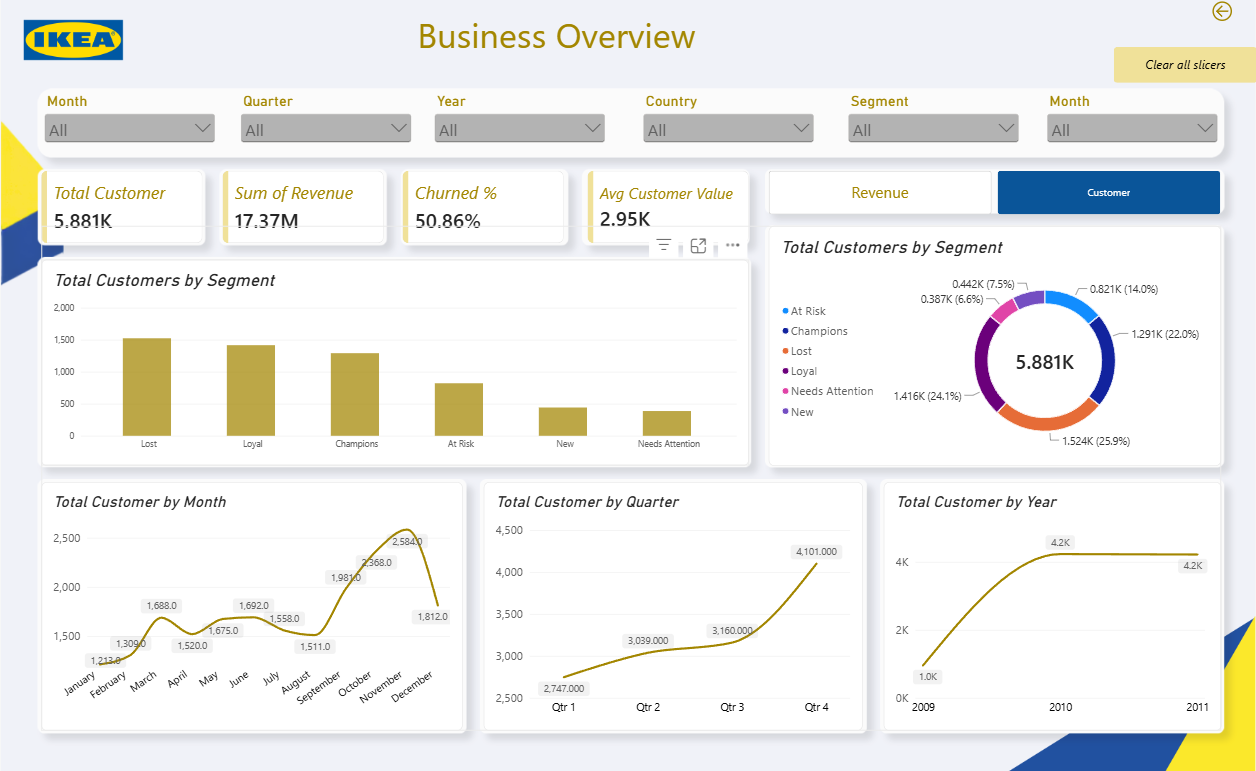

The dashboard page shown, as its layout file describes it:
{"tool":"powerbi","page":{"name":"Overview","canvas":[1920,1080],"ordinal":1},"visuals":[{"type":"slicer","fields":{"Values":["Sheet1.InvoiceDate.Variation.Date Hierarchy.Month"]},"box":[141.3,132.6,247.7,87.2],"z":0},{"type":"areaChart","fields":{"Category":["Sheet1.InvoiceDate.Variation.Date Hierarchy.Month"],"Y":["Sheet1.Total Revenue"]},"box":[141.3,676.8,587.8,347.1],"z":0,"group":"g1"},{"type":"cardVisual","fields":{"Data":["Sheet1.Total Customer"]},"box":[141.7,241.7,225,101.2],"z":1000},{"type":"areaChart","fields":{"Category":["Sheet1.InvoiceDate.Variation.Date Hierarchy.Quarter"],"Y":["Sheet1.Total Revenue"]},"box":[758.7,676.8,528.5,347.1],"z":1000,"group":"g1"},{"type":"cardVisual","fields":{"Data":["Sum(Sheet1.Revenue)"]},"box":[395,242.4,225,101.2],"z":2000},{"type":"areaChart","fields":{"Category":["Sheet1.InvoiceDate.Variation.Date Hierarchy.Year"],"Y":["Sheet1.Total Revenue"]},"box":[1316.9,676.8,470.9,347.1],"z":2000,"group":"g1"},{"type":"cardVisual","fields":{"Data":["Sheet1.Churned %"]},"box":[645.4,242.4,225,101.2],"z":3000},{"type":"clusteredColumnChart","fields":{"Category":["Sheet1.Segment"],"Y":["Sheet1.Total Revenue"]},"box":[141.3,366.3,987.2,287.8],"z":3000,"group":"g1"},{"type":"cardVisual","fields":{"Data":["Sheet1.Avg Customer Value"]},"box":[903.5,242.4,225,101.2],"z":4000},{"type":"donutChart","fields":{"Series":["Sheet1.Segment"],"Y":["Sheet1.Total Revenue"]},"box":[1156.4,319.2,631.4,334.9],"z":4000,"group":"g1"},{"type":"slicer","fields":{"Values":["Sheet1.InvoiceDate.Variation.Date Hierarchy.Quarter"]},"box":[415.1,132.6,247.7,87.2],"z":5000},{"type":"slicer","fields":{"Values":["Sheet1.InvoiceDate.Variation.Date Hierarchy.Year"]},"box":[685.5,132.6,247.7,87.2],"z":6000},{"type":"slicer","fields":{"Values":["Sheet1.Country"]},"box":[976.7,132.6,247.7,87.2],"z":7000},{"type":"slicer","fields":{"Values":["Sheet1.Segment"]},"box":[1262.8,132.6,247.7,87.2],"z":8000},{"type":"slicer","fields":{"Values":["Sheet1.InvoiceDate.Variation.Date Hierarchy.Month"]},"box":[1540.1,132.6,247.7,87.2],"z":9000},{"type":"group","id":"g1","title":"Revenue","box":[141.3,319.2,1646.5,704.7],"z":11000},{"type":"bookmarkNavigator","box":[1156.7,241.7,631.7,61.7],"z":12000},{"type":"image","box":[86.7,0,198.3,120],"z":13000},{"type":"textbox","box":[666.7,20,433.3,75],"z":14000},{"type":"actionButton","box":[1738.3,0,100,40],"z":15000},{"type":"actionButton","box":[1638.3,70,200,50],"z":16000}]}

Visuals, with their boxes on the page's 1920x1080 design canvas (x1, y1, x2, y2). These are canvas units, not pixel positions in the 1256x771 screenshot, which may show the page scaled, cropped or inside an application window:
slicer - Sheet1.InvoiceDate.Variation.Date Hierarchy.Month: 141:133:389:220
areaChart - Sheet1.InvoiceDate.Variation.Date Hierarchy.Month x Sheet1.Total Revenue: 141:677:729:1024
cardVisual - Sheet1.Total Customer: 142:242:367:343
areaChart - Sheet1.InvoiceDate.Variation.Date Hierarchy.Quarter x Sheet1.Total Revenue: 759:677:1287:1024
cardVisual - Sum(Sheet1.Revenue): 395:242:620:344
areaChart - Sheet1.InvoiceDate.Variation.Date Hierarchy.Year x Sheet1.Total Revenue: 1317:677:1788:1024
cardVisual - Sheet1.Churned %: 645:242:870:344
clusteredColumnChart - Sheet1.Segment x Sheet1.Total Revenue: 141:366:1128:654
cardVisual - Sheet1.Avg Customer Value: 904:242:1128:344
donutChart - Sheet1.Segment x Sheet1.Total Revenue: 1156:319:1788:654
slicer - Sheet1.InvoiceDate.Variation.Date Hierarchy.Quarter: 415:133:663:220
slicer - Sheet1.InvoiceDate.Variation.Date Hierarchy.Year: 686:133:933:220
slicer - Sheet1.Country: 977:133:1224:220
slicer - Sheet1.Segment: 1263:133:1510:220
slicer - Sheet1.InvoiceDate.Variation.Date Hierarchy.Month: 1540:133:1788:220
"Revenue" group: 141:319:1788:1024
bookmarkNavigator: 1157:242:1788:303
image: 87:0:285:120
textbox: 667:20:1100:95
actionButton: 1738:0:1838:40
actionButton: 1638:70:1838:120
